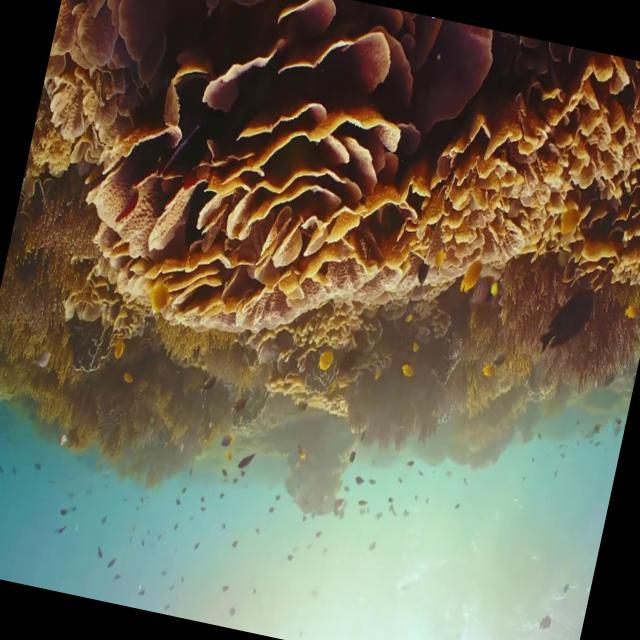fish: (536, 286, 586, 358)
